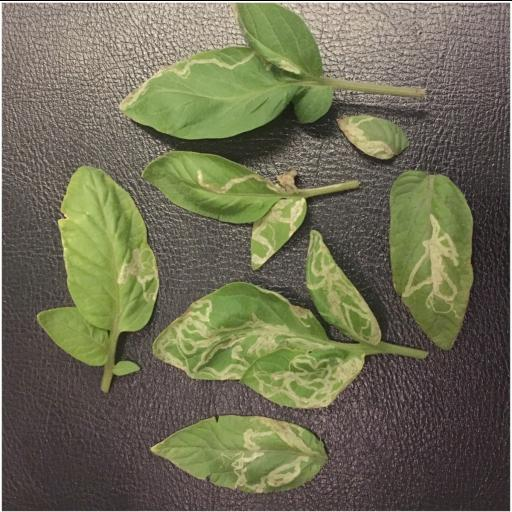Leaf Miner: (150, 282, 365, 410), (58, 164, 162, 334), (116, 44, 305, 137), (388, 168, 474, 354), (149, 414, 326, 496), (138, 150, 278, 220), (306, 226, 382, 346), (250, 190, 308, 270), (335, 112, 407, 164)
